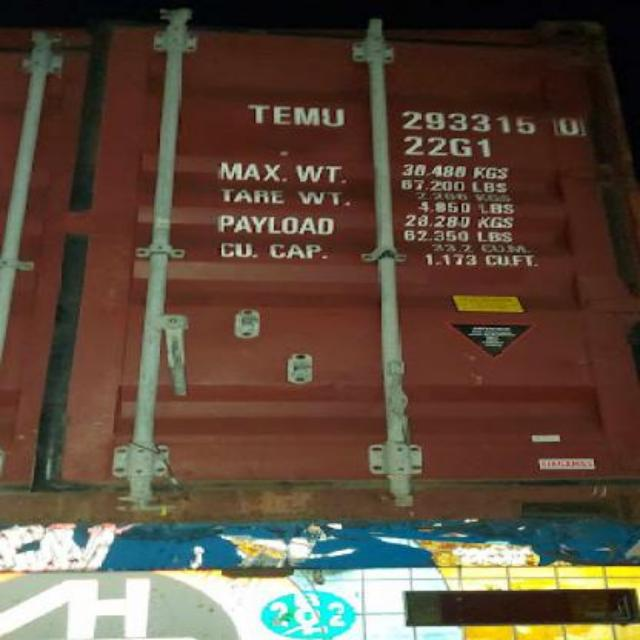0: (550, 115, 592, 142)
1: (491, 110, 512, 138)
2: (396, 106, 422, 130)
3: (448, 106, 468, 134), (468, 109, 489, 135)
5: (514, 108, 538, 138)
9: (424, 106, 446, 132)
E: (270, 102, 294, 126)
M: (294, 100, 320, 130)
T: (246, 99, 270, 125)
U: (322, 102, 346, 132)
